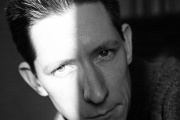male: (37, 18, 125, 120)
